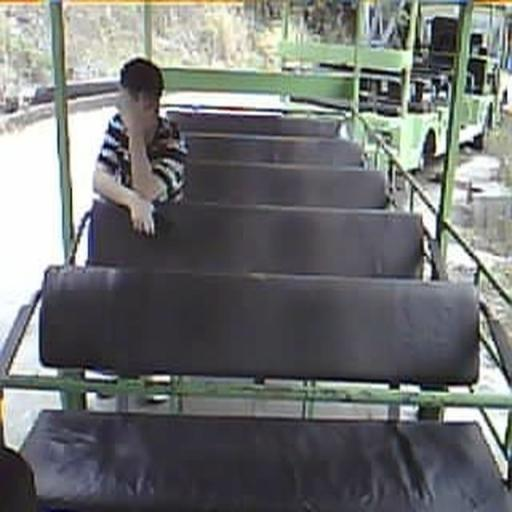persona: (91, 56, 191, 239)
